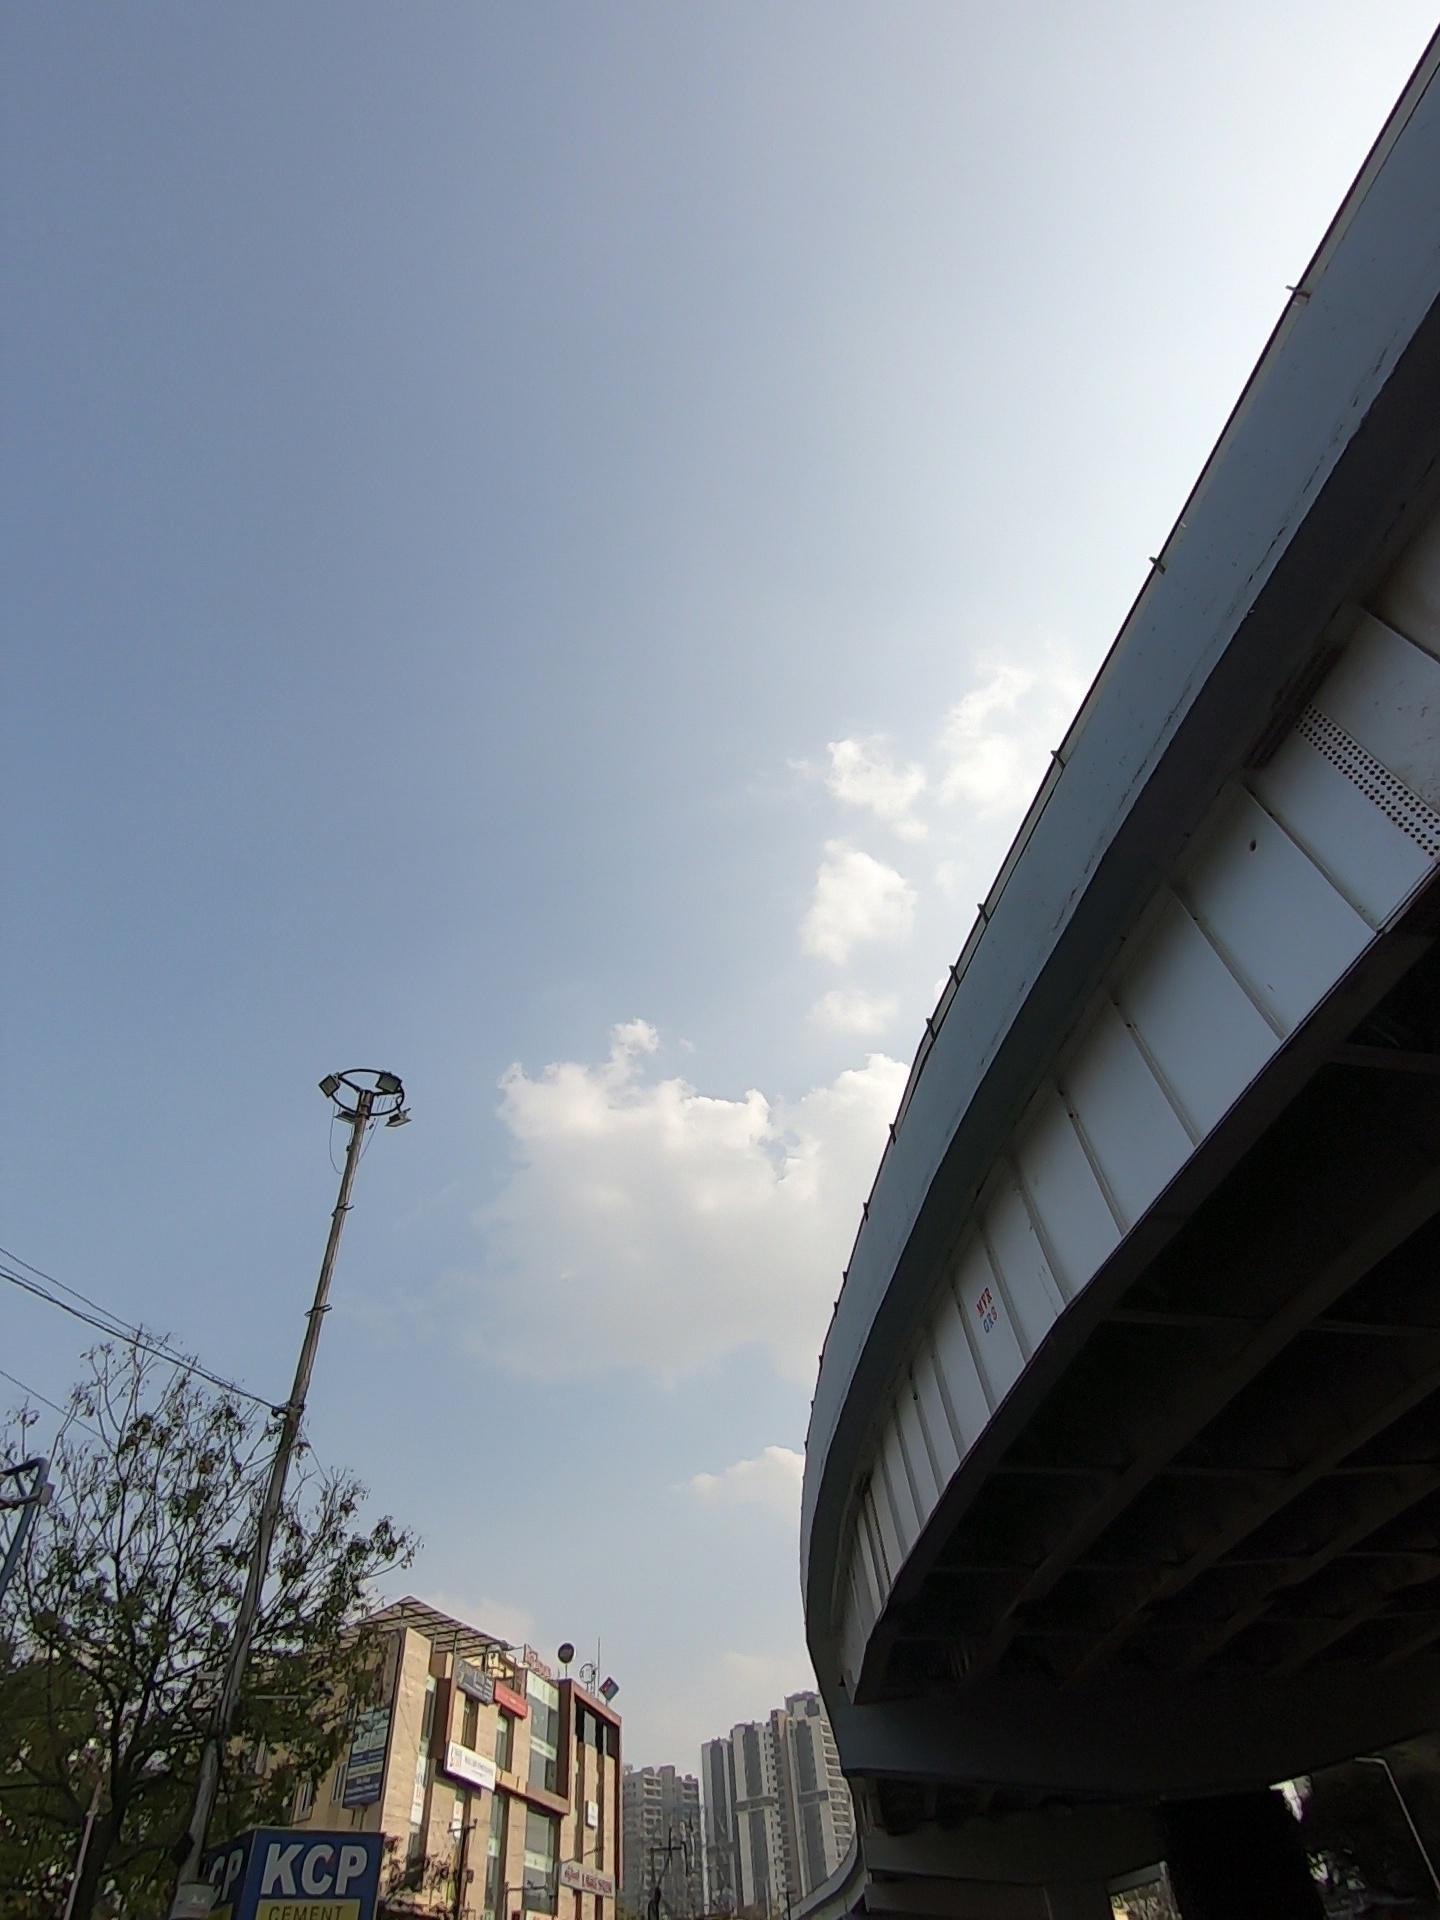off: (165, 977, 560, 1232)
